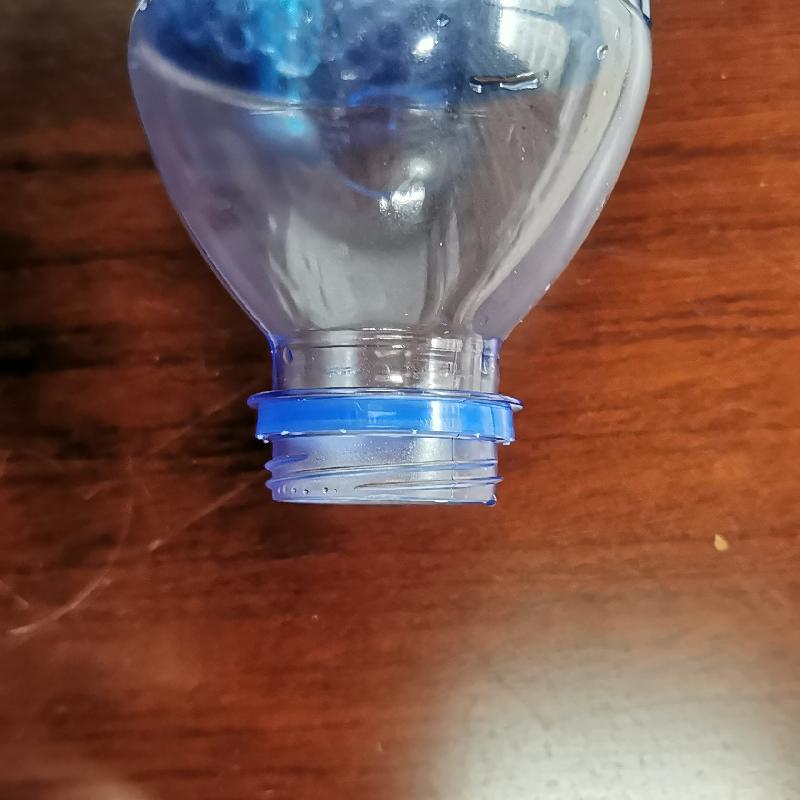bottles: (120, 0, 654, 513)
